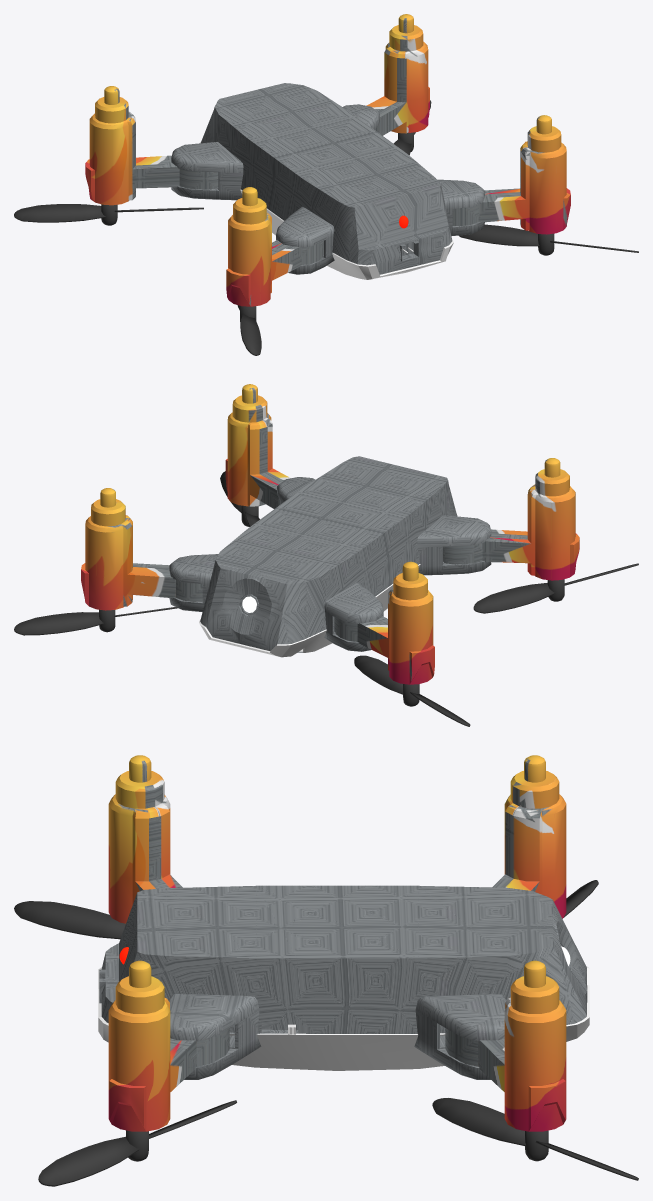
File: rocket_drone.glb
3 renders of one model, top to bottom at view 1: azimuth 30°, elevation 25°; view 2: azimuth 150°, elevation 25°; view 3: azimuth 270°, elevation 25°, orthographic. The views are drawn at different scales.
Parts seen in each view (by area): view 1: Cube_0, Circle.001, Circle, Circle.004, Circle.002, Cube_1, Circle.003; view 2: Cube_0, Circle.001, Circle, Circle.005, Circle.003, Circle.004, Cube_1, Circle.002; view 3: Cube_0, Circle.001, Circle, Cube_1, Circle.002, Circle.005, Circle.003.
Part boxes in pixels (box(x1,y1,x2,y2)): Cube_0: box(201, 83, 452, 274); Circle.001: box(85, 14, 570, 306); Circle: box(171, 104, 484, 274); Circle.004: box(14, 204, 203, 225); Circle.002: box(459, 224, 638, 255); Cube_1: box(200, 142, 453, 279); Circle.003: box(237, 305, 261, 355); Cube_0: box(200, 456, 457, 652); Circle.001: box(81, 384, 579, 684); Circle: box(169, 477, 491, 651); Circle.005: box(14, 607, 177, 635); Circle.003: box(473, 563, 638, 613); Circle.004: box(354, 655, 470, 726); Cube_1: box(199, 564, 420, 657); Circle.002: box(220, 471, 259, 526); Cube_0: box(99, 885, 587, 1034); Circle.001: box(108, 755, 566, 1131); Circle: box(168, 994, 506, 1079); Cube_1: box(98, 966, 589, 1070); Circle.002: box(38, 1100, 236, 1186); Circle.005: box(432, 1098, 638, 1180); Circle.003: box(14, 901, 125, 939).
Bounding box in the file's own units: 8.84 × 2.68 × 7.74.
9 materials, 2 textured.
